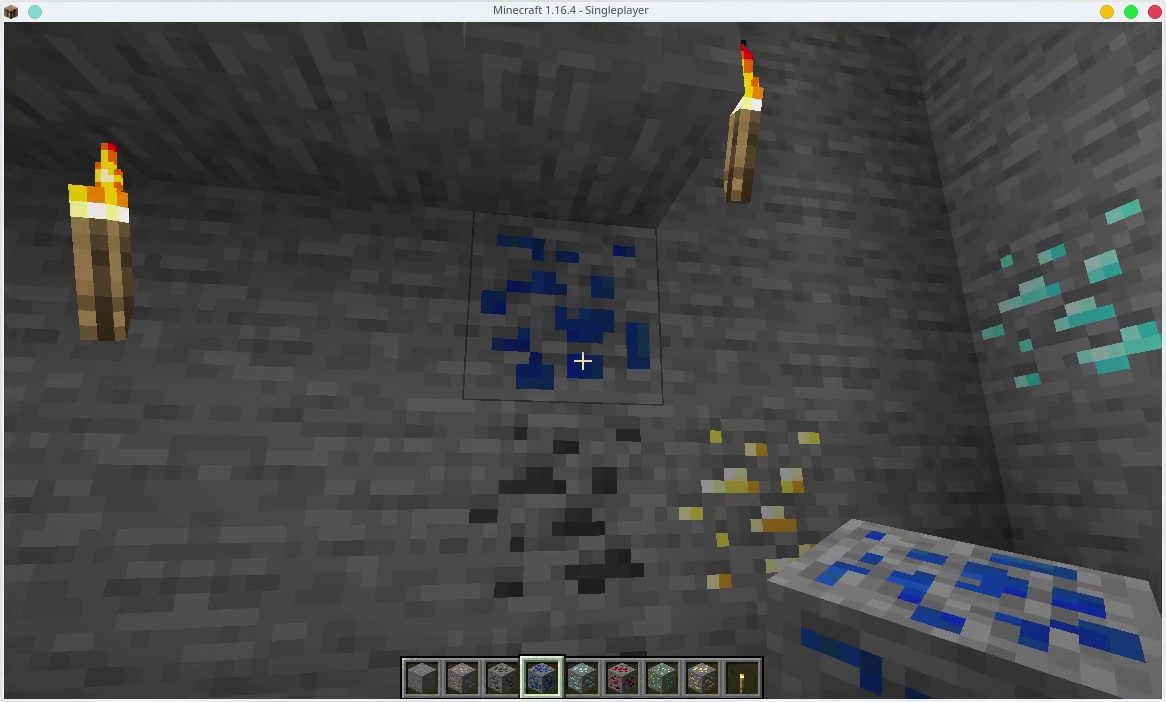gold: (671, 427, 828, 549), (687, 658, 717, 693)
